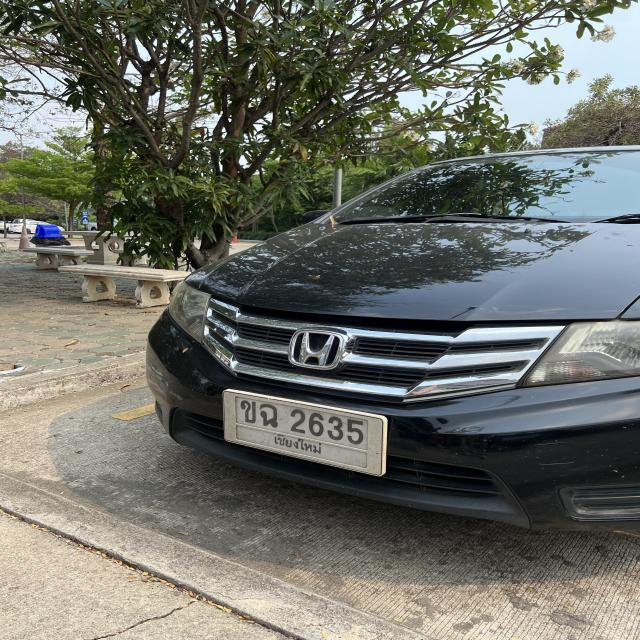license_plate: (223, 388, 387, 478)
